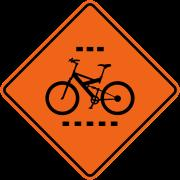Cycle Crossing: (20, 10, 159, 159)
